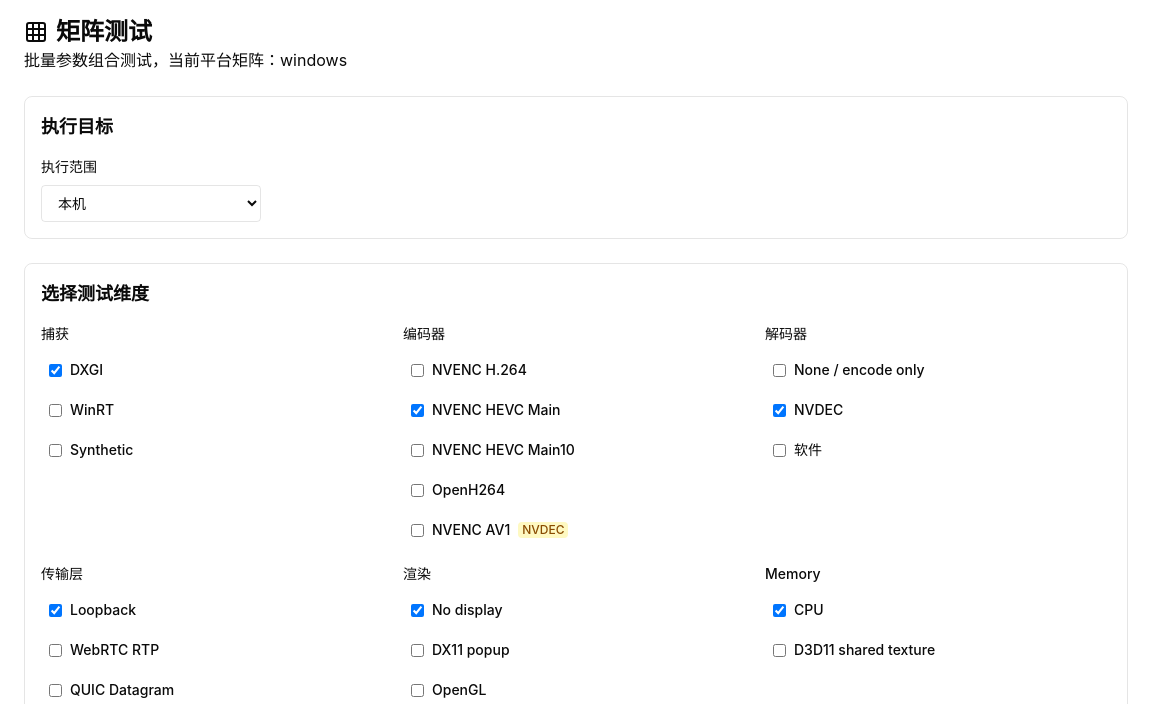
Test case: MatrixTestPage failure handling › marks a row failed when test_start_run rejects
Step 1. Click the checkbox labelled "NVENC HEVC Main" → x=418, y=410, box top-left (411, 404), bottom-right (424, 416)
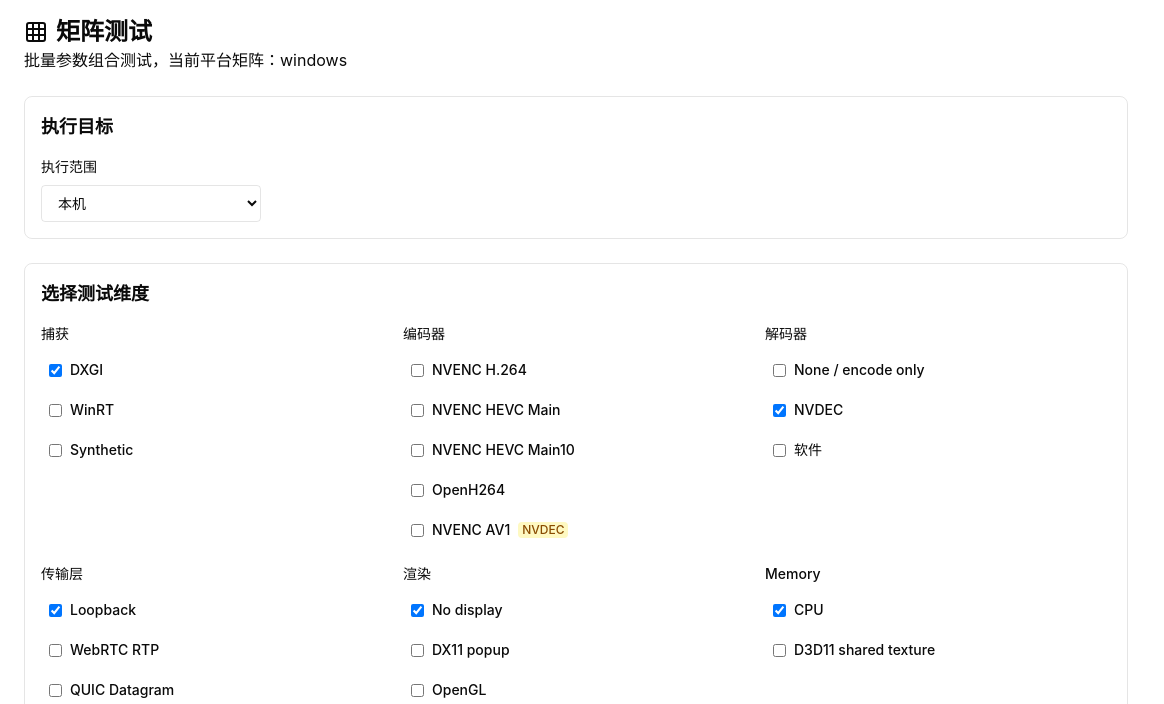
Step 2. Click the checkbox labelled "NVENC H.264" → x=418, y=370, box top-left (411, 364), bottom-right (424, 376)
(page scrolled)
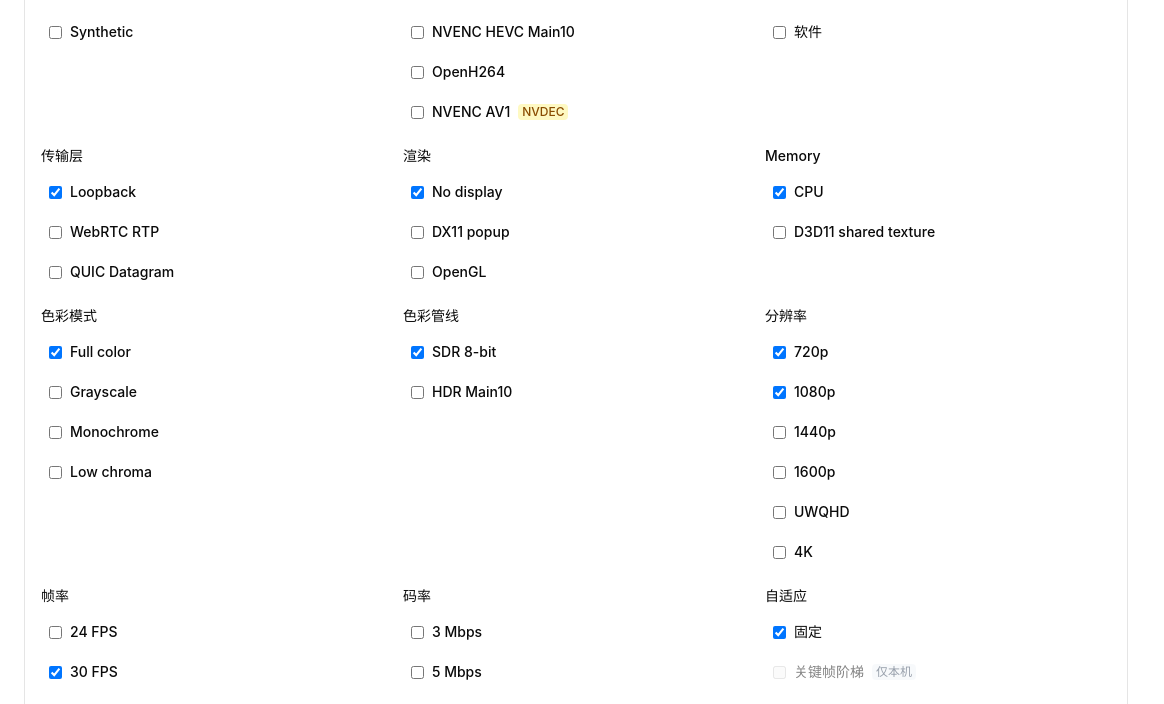
Step 3. Click the checkbox labelled "720p" → x=780, y=352, box top-left (773, 346), bottom-right (786, 358)
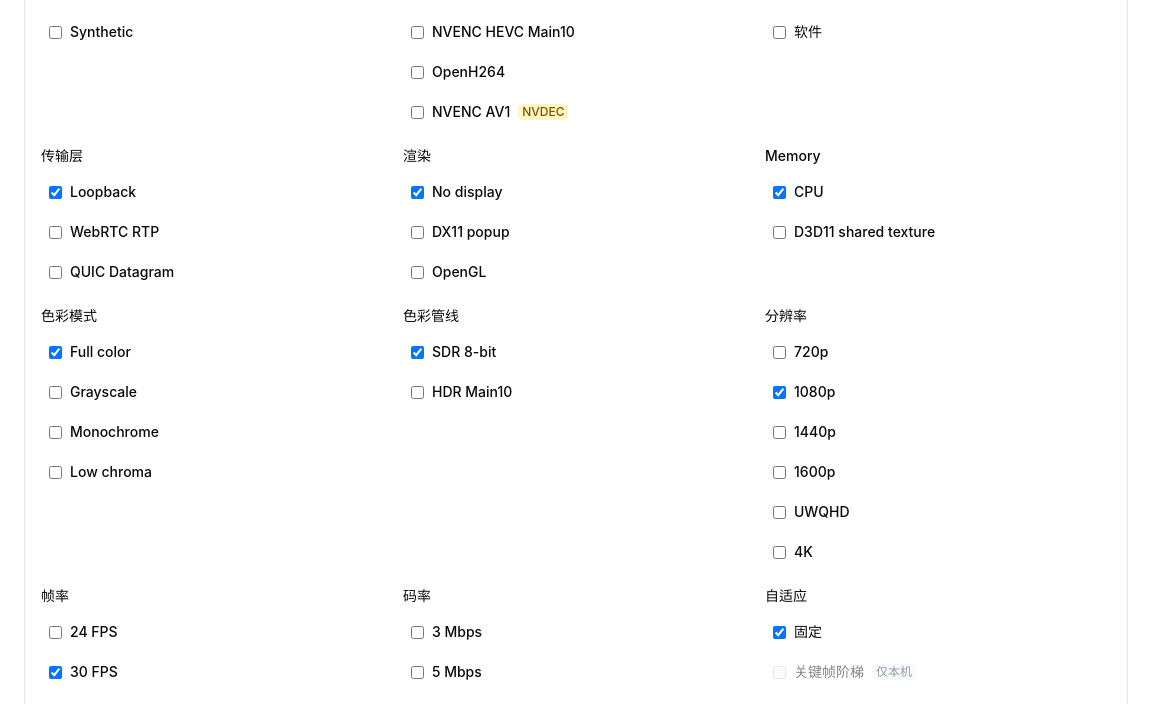
Step 4. Click the checkbox labelled "30 FPS" → x=56, y=672, box top-left (49, 666), bottom-right (62, 678)
(page scrolled)
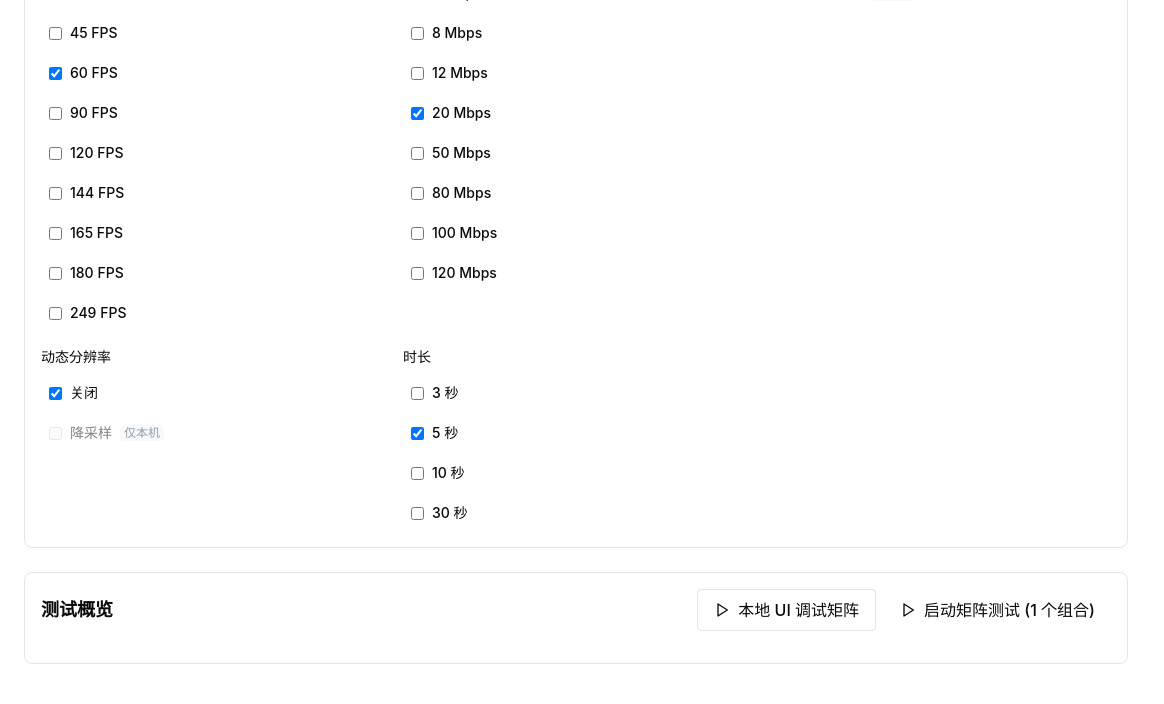
Step 5. Click the button "启动矩阵测试 (1 个组合)" → x=998, y=610, box top-left (884, 589), bottom-right (1111, 631)
(page scrolled)
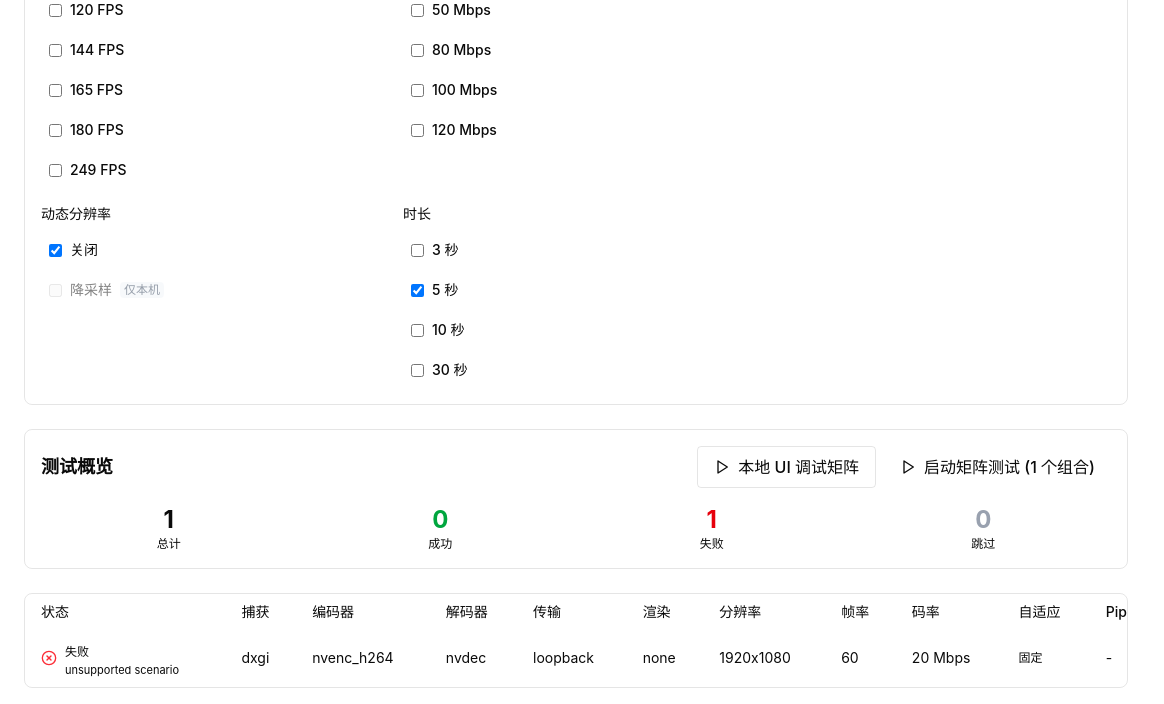
Now the text "失败" in the row of "nvenc_h264" is shown, box top-left (65, 644), bottom-right (89, 659)
